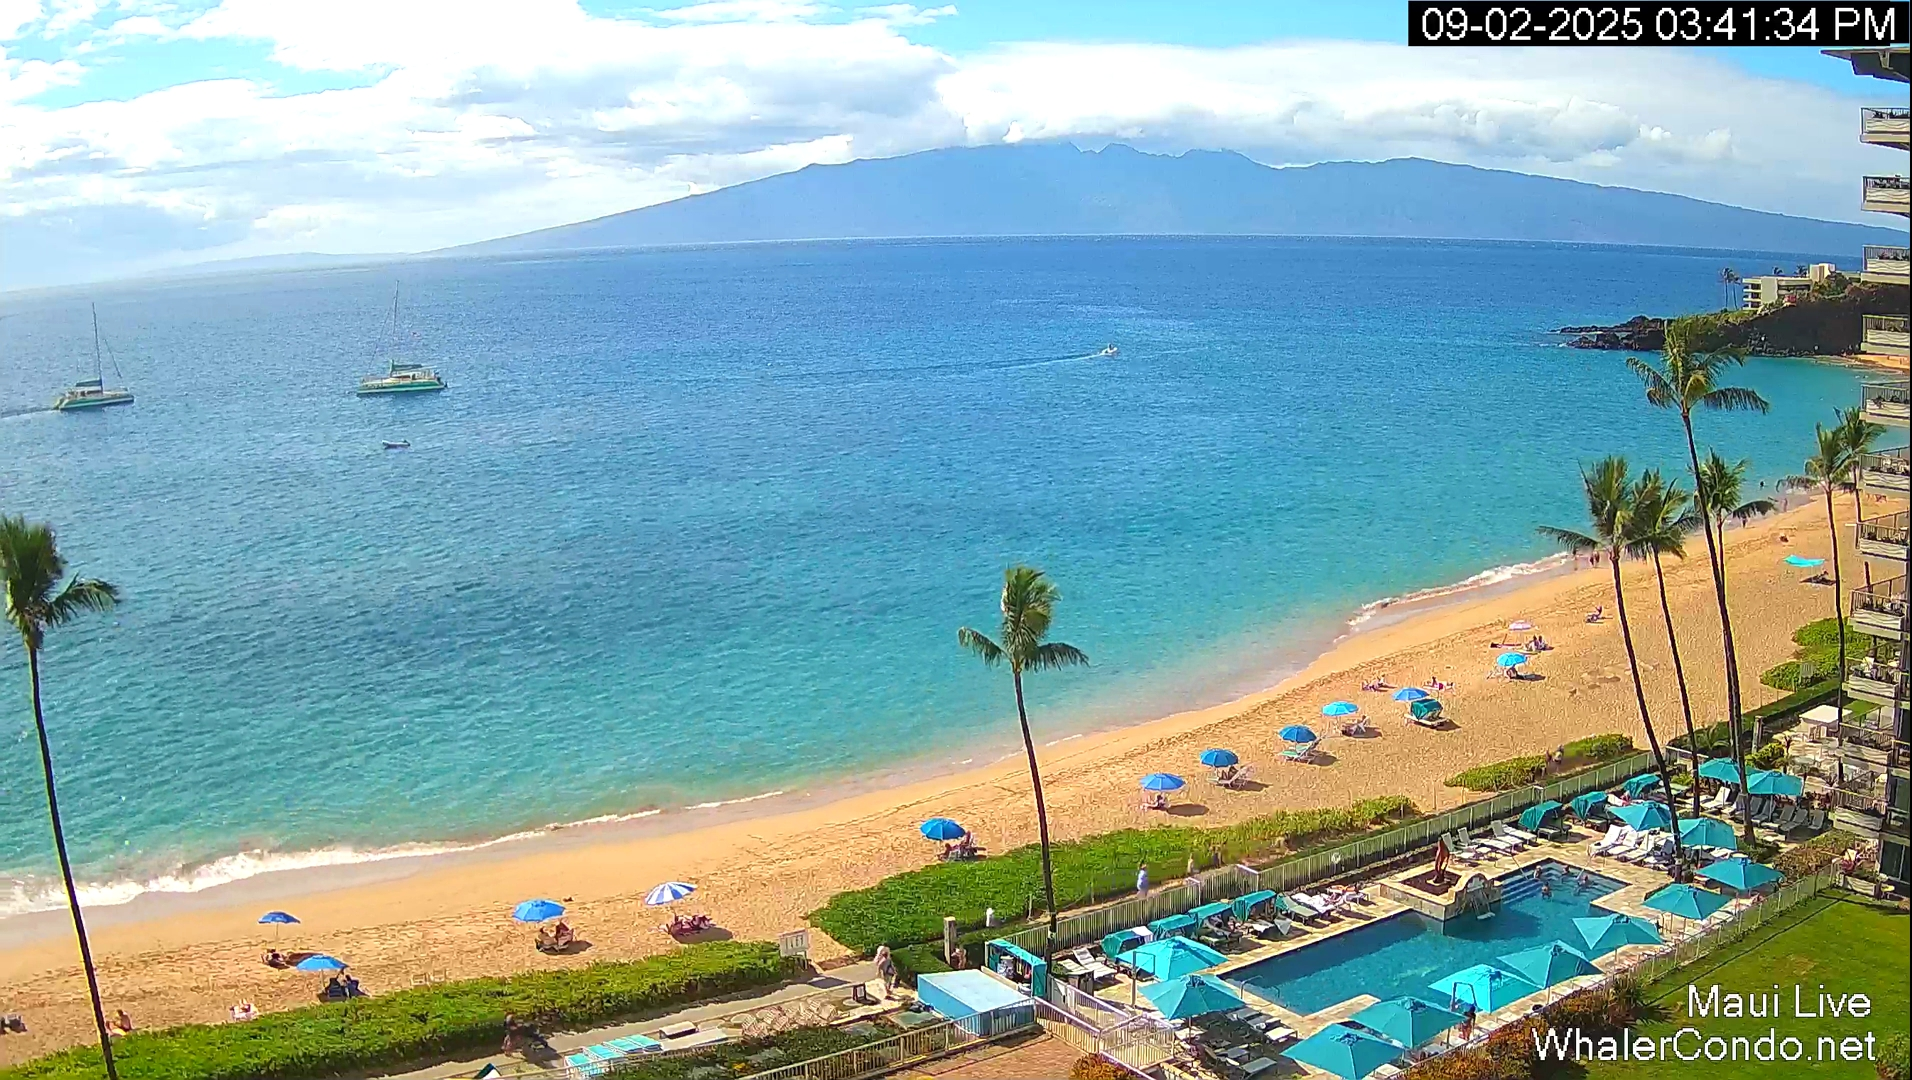boat: (356, 280, 447, 397), (52, 302, 135, 411), (356, 360, 447, 397), (53, 375, 134, 411), (382, 440, 411, 449)
person: (339, 974, 371, 998), (873, 944, 891, 980), (1136, 863, 1149, 898), (555, 919, 571, 945), (116, 1009, 134, 1032), (105, 1020, 126, 1038), (1186, 853, 1195, 877), (1541, 883, 1552, 900), (1101, 343, 1116, 354), (1535, 865, 1542, 879)
